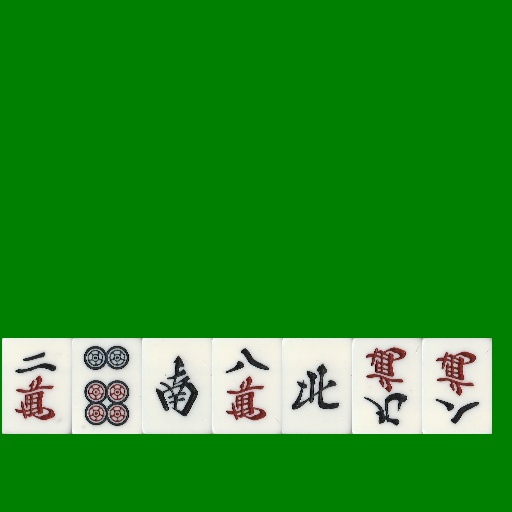2m: (2, 338, 72, 434)
6p: (72, 338, 142, 434)
8m: (212, 338, 282, 434), (422, 338, 492, 434)
9m: (352, 338, 422, 434)
north: (282, 338, 352, 434)
south: (142, 338, 212, 434)
